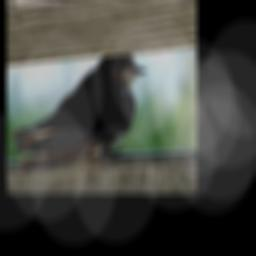Swallow: (10, 53, 147, 170)
